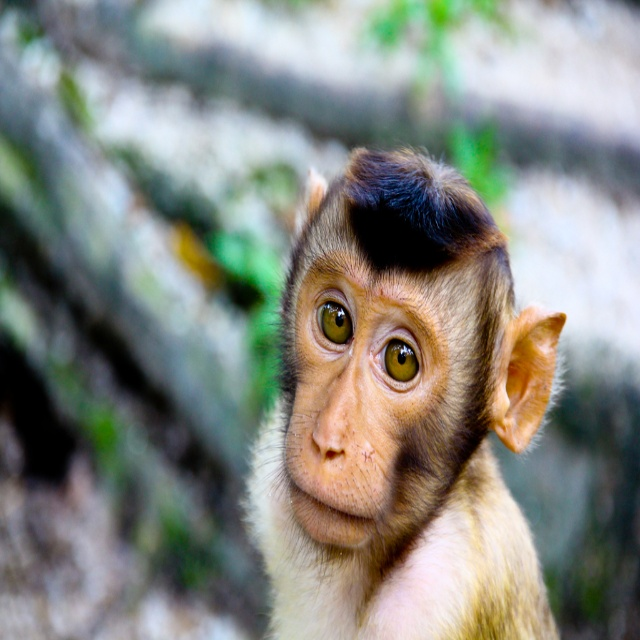Monkey: (228, 146, 590, 640)
